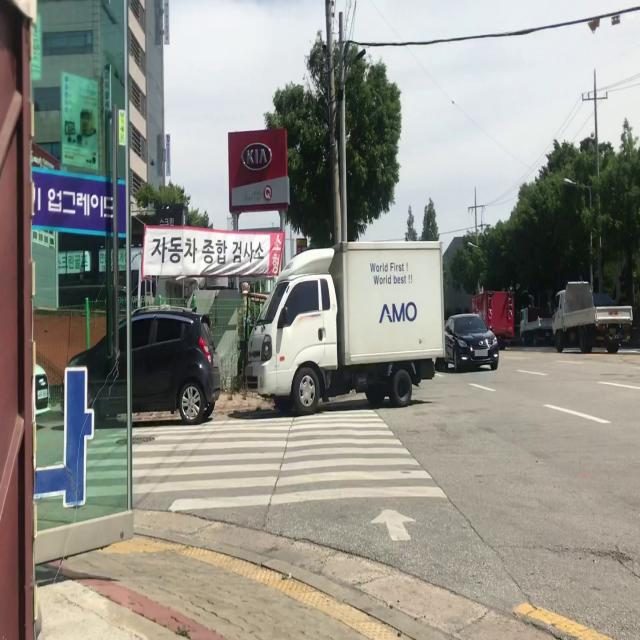횡단보도: (45, 406, 450, 544)
